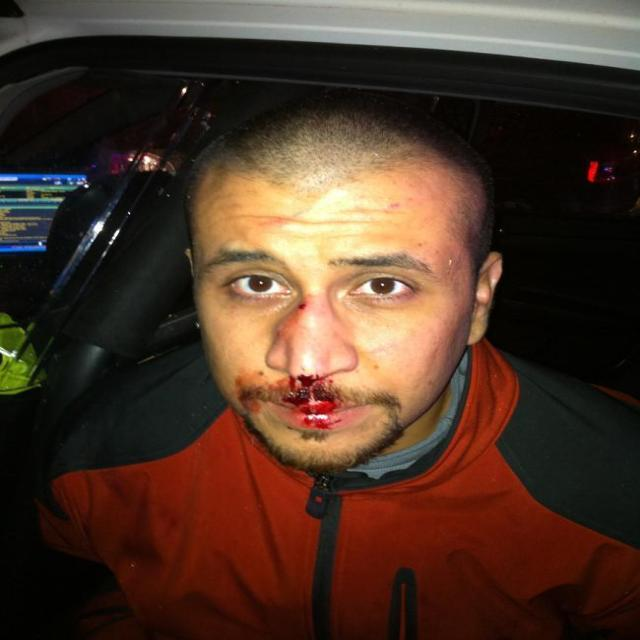flood: (231, 366, 357, 439)
